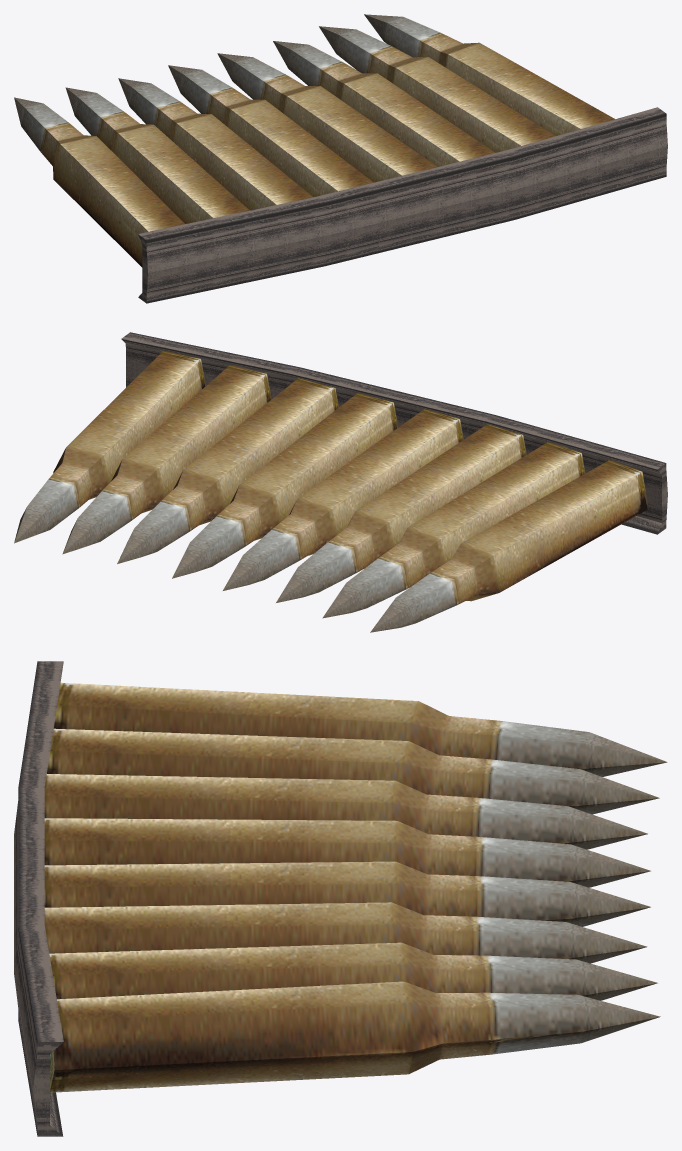
Rendered from thirtycal stripperclip.glb.
The picture shows the model from 3 angles, top to bottom: view 1: azimuth 30°, elevation 25°; view 2: azimuth 150°, elevation 25°; view 3: azimuth 270°, elevation 25°; orthographic projection. The views are drawn at different scales.
Parts seen in each view (by area): view 1: stripperClip; view 2: stripperClip; view 3: stripperClip.
Boxes of the visible parts, x1,y1,x2,y2 form: stripperClip: (14,14,667,303); stripperClip: (14,332,667,632); stripperClip: (14,661,667,1136).
Bounding box in the file's own units: 0.3694 × 0.0429 × 0.2681.
Materials: 2 (2 with a texture image).
